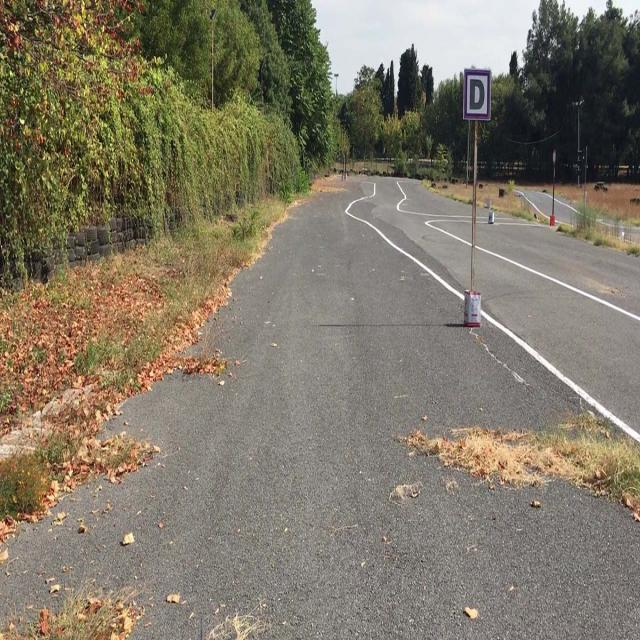durak: (465, 70, 490, 118)
